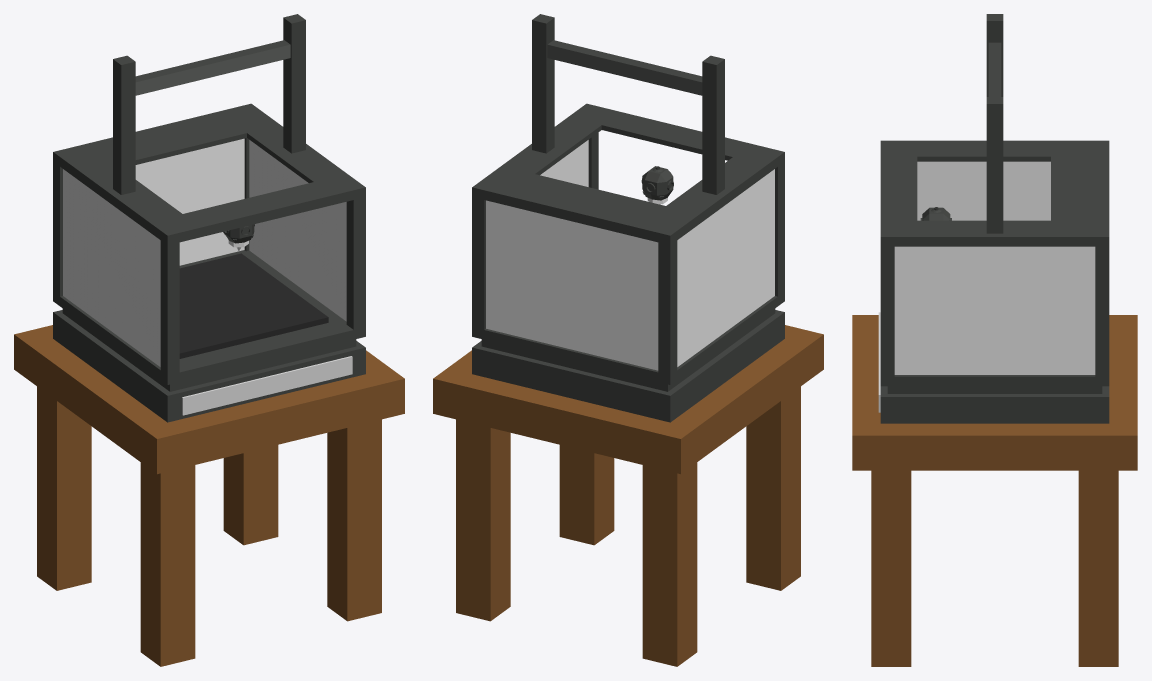
Rendered from Printer.glb.
3 views of the same model, side by side, from view 1: azimuth 30°, elevation 25°; view 2: azimuth 150°, elevation 25°; view 3: azimuth 270°, elevation 25° (orthographic).
Parts seen in each view (by area): view 1: Printer, Table, PLA Holder, Progress Bar; view 2: Printer, Table, PLA Holder, Nozzle + Head; view 3: Printer, Table, PLA Holder.
Part boxes in pixels (x1,y1,x2,y2): Printer: (53,103,365,422); Table: (14,325,404,666); PLA Holder: (113,14,305,194); Progress Bar: (182,356,352,415); Printer: (472,103,784,422); Table: (433,325,823,666); PLA Holder: (532,14,724,194); Nozzle + Head: (641,166,673,204); Printer: (880,140,1109,423); Table: (852,315,1137,666); PLA Holder: (986,14,1003,233).
Bounding box in the file's own units: 2.5 × 5.35 × 2.5.
